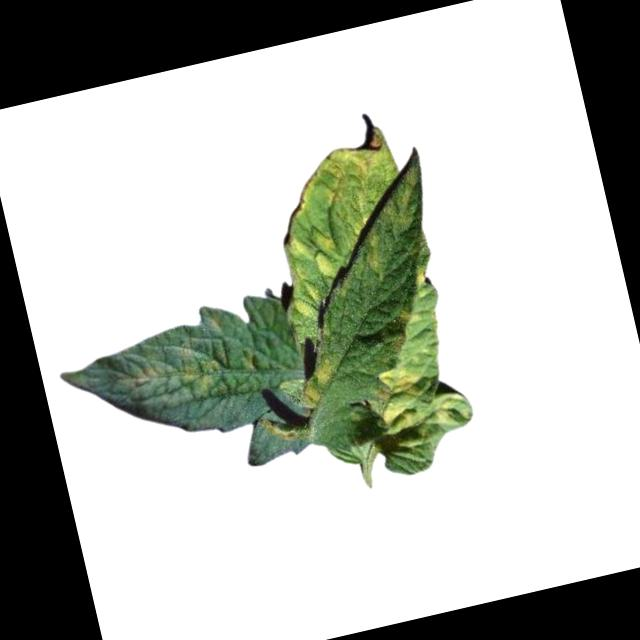Leaf_Mold: (259, 122, 447, 318), (360, 347, 473, 447), (114, 336, 261, 410), (288, 355, 344, 414)
